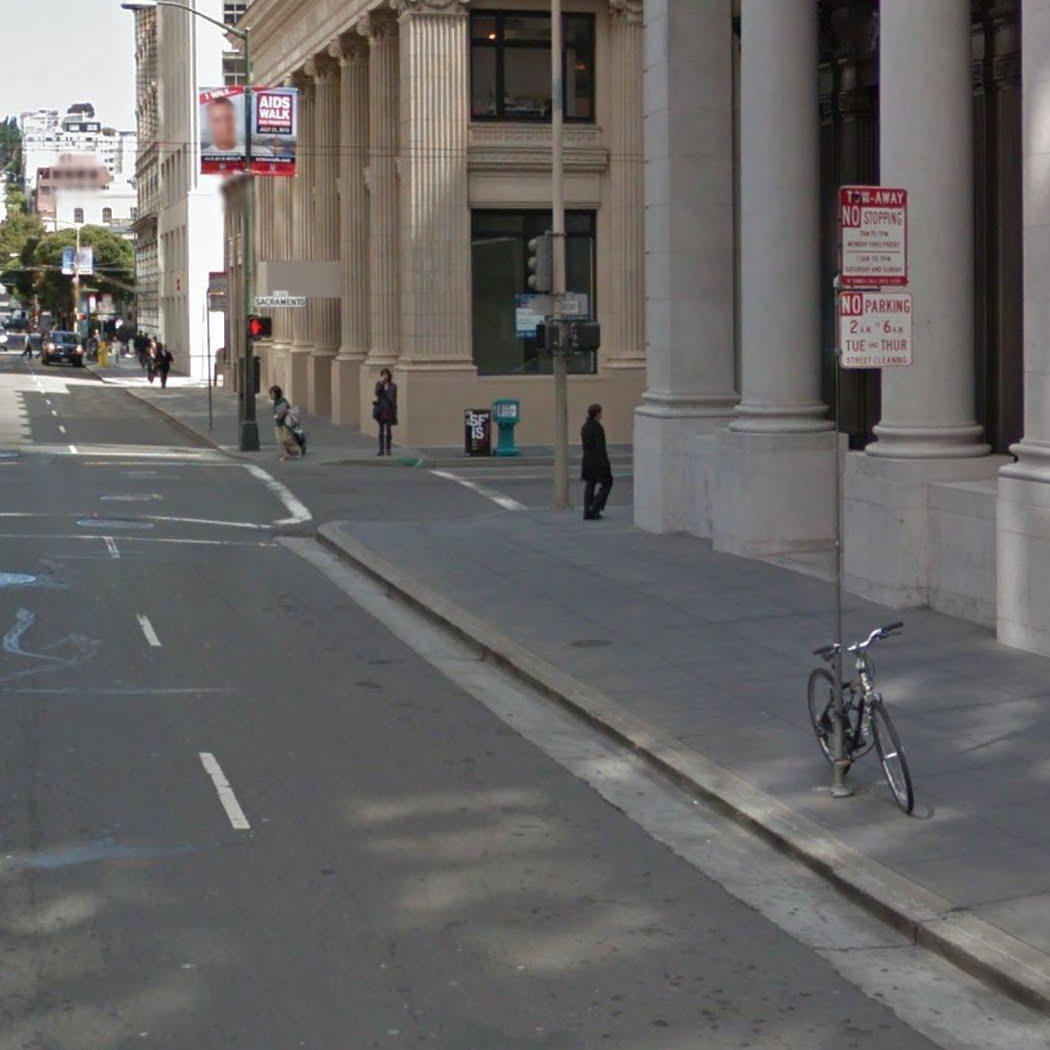No Parking: (837, 290, 914, 366)
